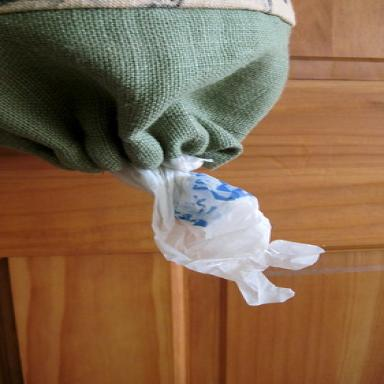plasticbag: (101, 154, 324, 304)
